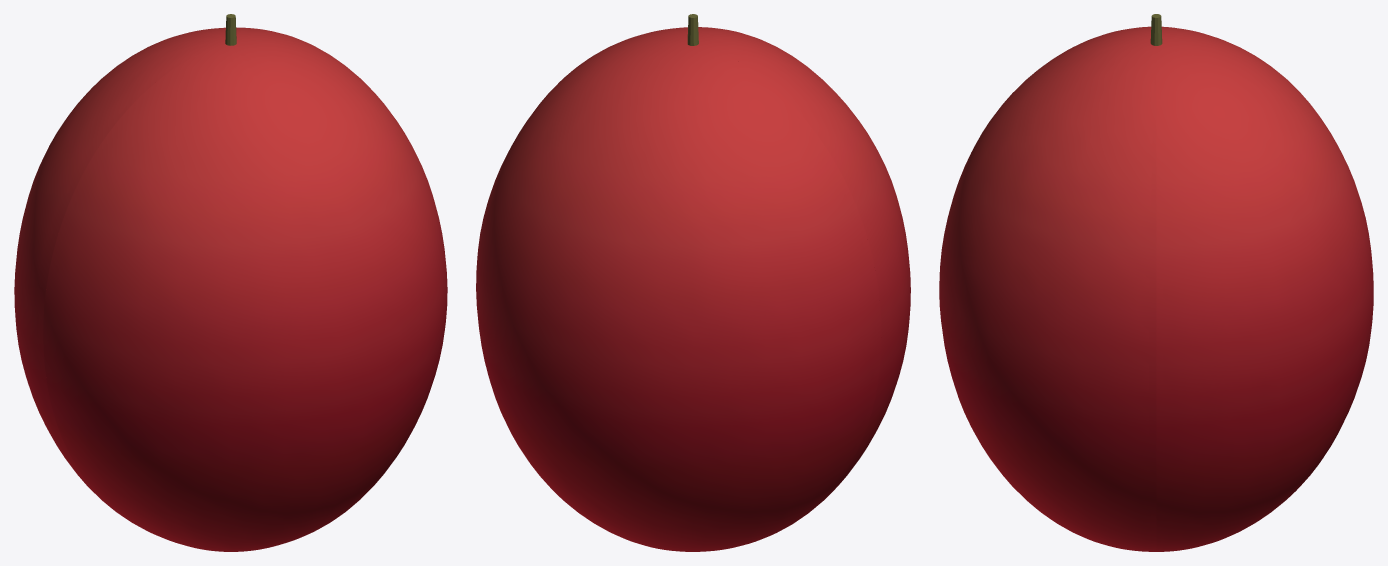
File: raisin-rose.glb
3 views of the same model, side by side, from view 1: azimuth 30°, elevation 25°; view 2: azimuth 150°, elevation 25°; view 3: azimuth 270°, elevation 25° (orthographic).
Visible parts, largest first — view 1: entier_peau, moitie_B_peau, moitie_A_peau; view 2: moitie_A_peau, entier_peau, moitie_B_peau; view 3: entier_peau, moitie_A_peau, moitie_B_peau.
Boxes of the visible parts, box(x1,y1,x2,y2) form: entier_peau: box(14, 27, 447, 551); moitie_B_peau: box(43, 39, 447, 551); moitie_A_peau: box(14, 27, 333, 508); moitie_A_peau: box(476, 39, 881, 551); entier_peau: box(476, 27, 910, 551); moitie_B_peau: box(592, 27, 910, 503); entier_peau: box(939, 26, 1373, 551); moitie_A_peau: box(1156, 27, 1373, 551); moitie_B_peau: box(939, 27, 1156, 551).
Size of the model in its own units: 1.44 by 1.9 by 1.44.
